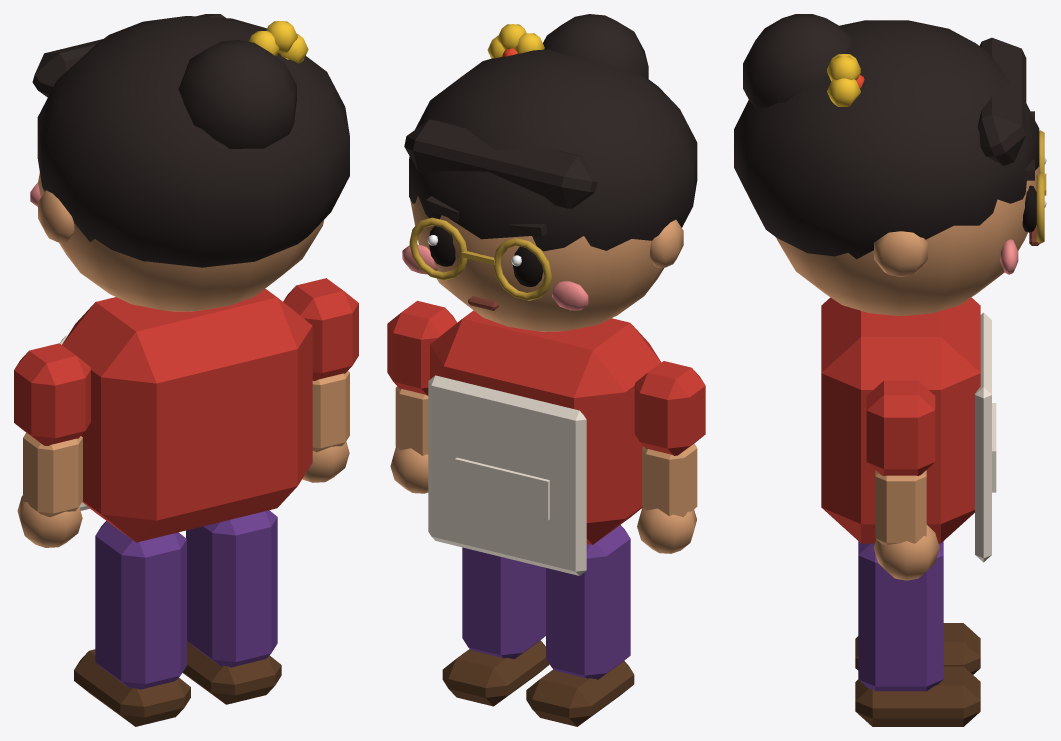
Rendered from daeng.glb.
3 views of the same model, side by side, from view 1: azimuth 30°, elevation 25°; view 2: azimuth 150°, elevation 25°; view 3: azimuth 270°, elevation 25° (orthographic). The views are drawn at different scales.
Visible parts, largest first — view 1: HeadMesh, TorsoMesh, LegLMesh, LegRMesh, ArmLMesh, ArmRMesh; view 2: HeadMesh, TorsoMesh, LegLMesh, LegRMesh, ArmLMesh, ArmRMesh; view 3: HeadMesh, TorsoMesh, LegRMesh, ArmRMesh, LegLMesh.
Boxes of the visible parts, bbox=[...] form: HeadMesh: bbox=[30, 14, 349, 311]; TorsoMesh: bbox=[60, 288, 312, 542]; LegLMesh: bbox=[74, 521, 190, 726]; LegRMesh: bbox=[182, 510, 281, 704]; ArmLMesh: bbox=[14, 343, 90, 547]; ArmRMesh: bbox=[283, 278, 358, 482]; HeadMesh: bbox=[402, 14, 697, 331]; TorsoMesh: bbox=[428, 310, 661, 575]; LegLMesh: bbox=[526, 525, 634, 726]; LegRMesh: bbox=[442, 547, 549, 706]; ArmLMesh: bbox=[634, 361, 705, 553]; ArmRMesh: bbox=[387, 301, 457, 493]; HeadMesh: bbox=[734, 14, 1046, 315]; TorsoMesh: bbox=[821, 297, 996, 562]; LegRMesh: bbox=[855, 541, 980, 726]; ArmRMesh: bbox=[866, 380, 939, 580]; LegLMesh: bbox=[855, 623, 980, 674].
Size of the model in its own units: 0.65 by 1.31 by 0.5489.
